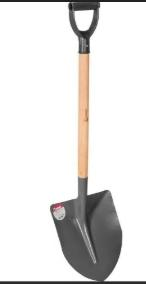PELLE: (0, 0, 144, 277)
